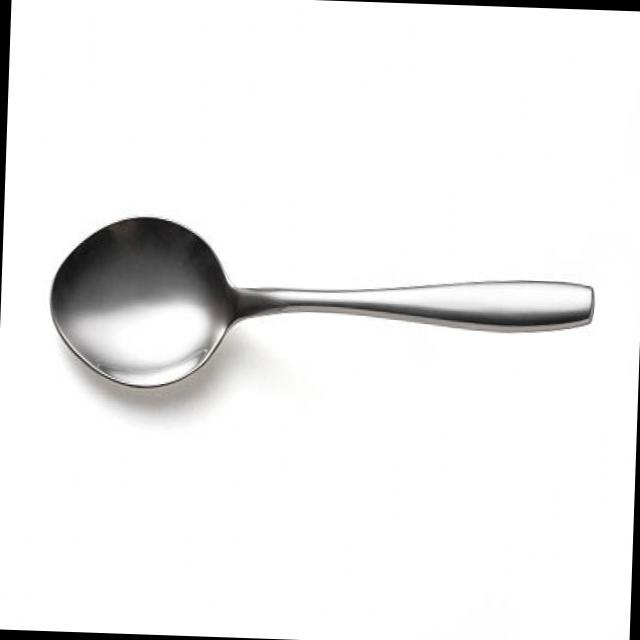spoon: (37, 206, 608, 416)
